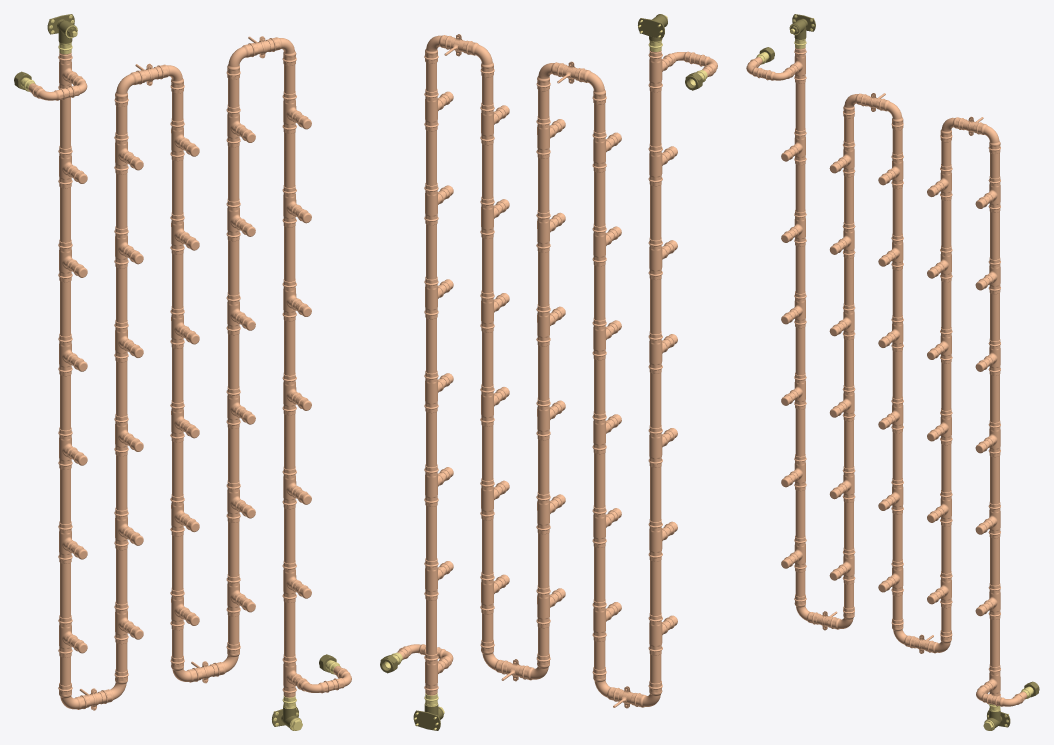
File: estante_blender.glb
3 renders of one model, left to right at view 1: azimuth 30°, elevation 25°; view 2: azimuth 150°, elevation 25°; view 3: azimuth 330°, elevation 25°, orthographic. The views are drawn at different scales.
Visible parts, largest first — view 1: Pad.015, Pad.013, Pad.011, Pad.009, Pad.1, EdgeFillet.006, EdgeFillet.011, Pocket.028, Pocket.033, Pocket.001, Pocket.018, Pocket.020 (+26 smaller); view 2: Pad.1, Pad.013, Pad.011, Pad.009, Pad.015, Pocket.003, Pocket.004, Pocket.005, Pocket.006, Pocket.7, Pocket.011, Pocket.029 (+29 smaller); view 3: Pad.1, Pad.011, Pad.013, Pad.015, Pad.009.
Boxes of the visible parts, x1,y1,x2,y2 form: Pad.015: [284, 64, 295, 697]; Pad.013: [228, 78, 239, 644]; Pad.011: [172, 92, 183, 658]; Pad.009: [116, 106, 127, 672]; Pad.1: [60, 53, 70, 685]; EdgeFillet.006: [114, 70, 146, 106]; EdgeFillet.011: [226, 43, 258, 79]; Pocket.028: [282, 466, 302, 509]; Pocket.033: [282, 560, 302, 603]; Pocket.001: [282, 654, 302, 696]; Pocket.018: [226, 292, 245, 335]; Pocket.020: [282, 91, 302, 133]; Pad.1: [650, 51, 661, 683]; Pad.013: [482, 76, 493, 642]; Pad.011: [538, 90, 549, 656]; Pad.009: [594, 103, 605, 669]; Pad.015: [426, 62, 436, 695]; Pocket.003: [648, 143, 669, 186]; Pocket.004: [648, 237, 669, 280]; Pocket.005: [648, 331, 669, 373]; Pocket.006: [648, 425, 669, 467]; Pocket.7: [648, 50, 669, 92]; Pocket.011: [592, 411, 613, 454]; Pocket.029: [648, 613, 669, 655]; Pad.1: [795, 48, 805, 596]; Pad.011: [892, 129, 902, 620]; Pad.013: [941, 141, 951, 632]; Pad.015: [990, 153, 999, 667]; Pad.009: [844, 117, 853, 608].
Size of the model in its own units: 0.71 by 1.63 by 0.146.
